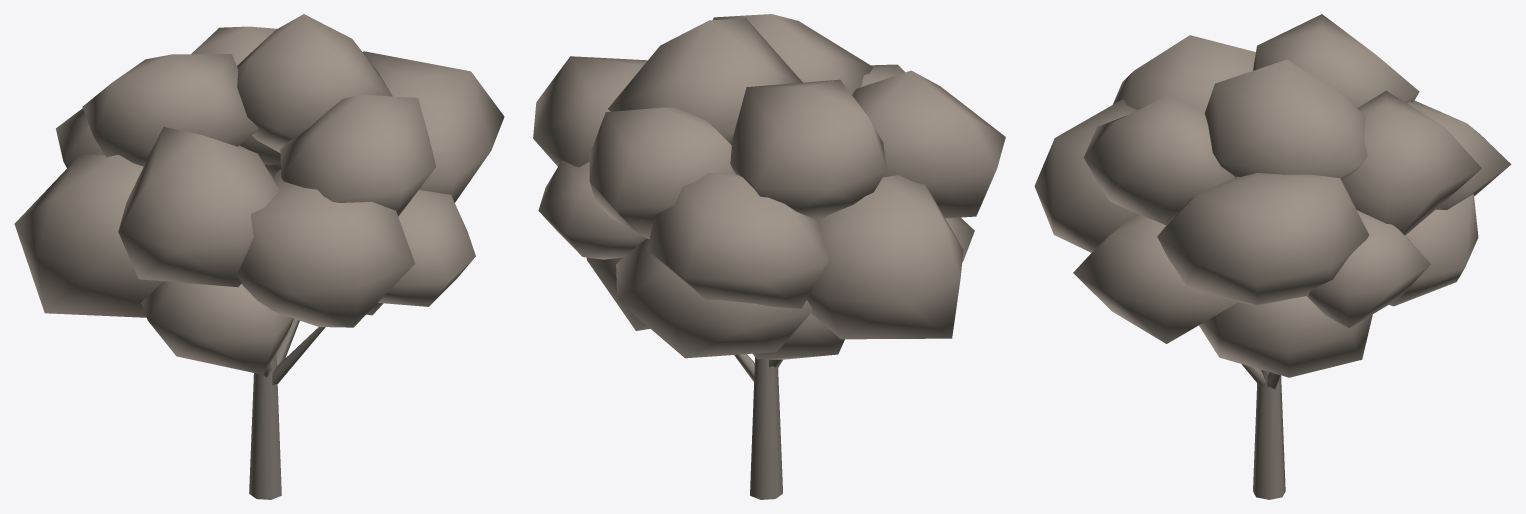
File: tree_oak_b.glb
3 views of the same model, side by side, from view 1: azimuth 30°, elevation 25°; view 2: azimuth 150°, elevation 25°; view 3: azimuth 270°, elevation 25° (orthographic). The views are drawn at different scales.
Parts seen in each view (by area): view 1: tree_oak_b; view 2: tree_oak_b; view 3: tree_oak_b.
Boxes of the visible parts, bbox=[...] form: tree_oak_b: bbox=[14, 14, 504, 499]; tree_oak_b: bbox=[533, 14, 1005, 499]; tree_oak_b: bbox=[1034, 14, 1511, 499].
Bounding box in the file's own units: 11.45 × 11.39 × 10.79.
